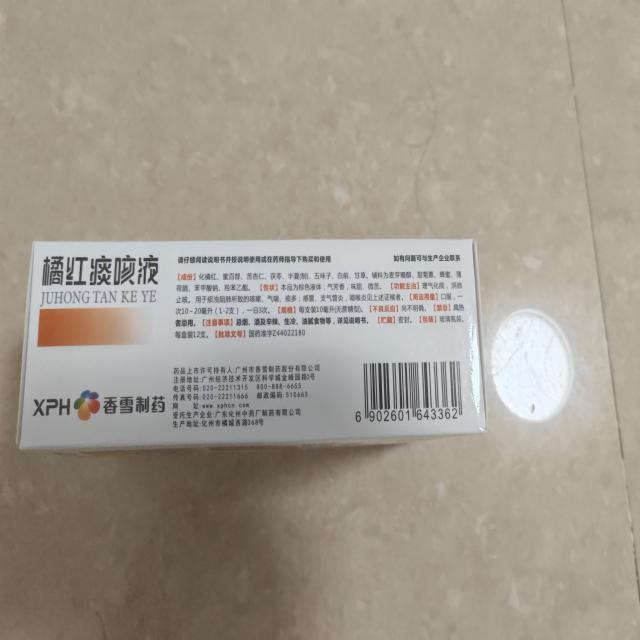box: (9, 226, 494, 464)
